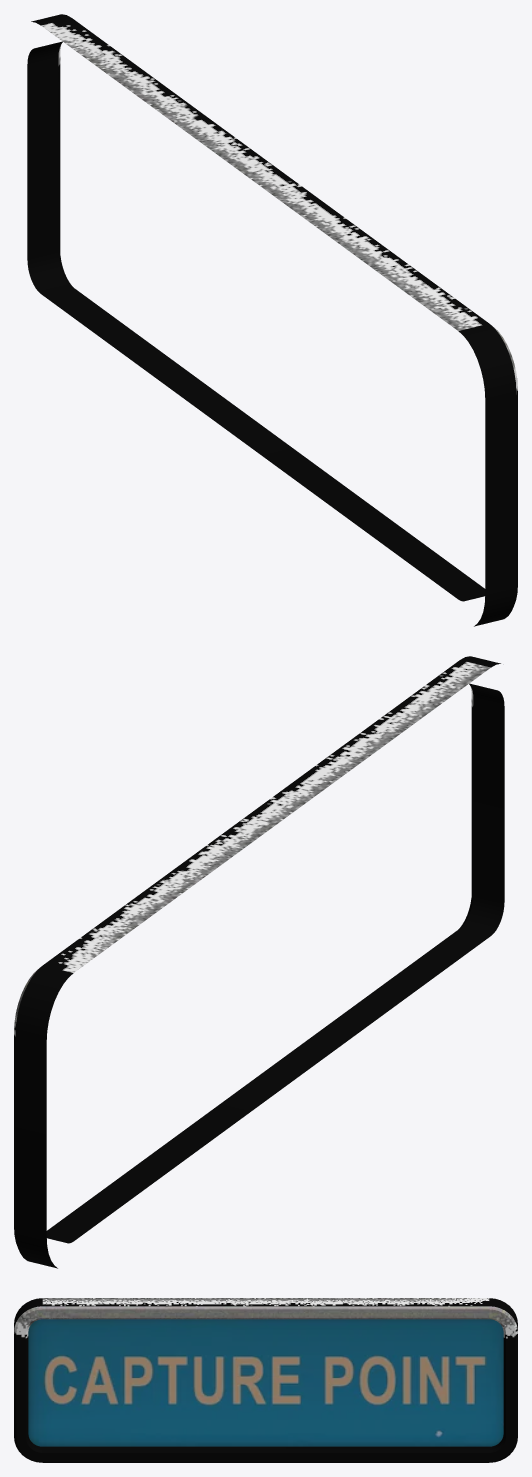
The picture shows the model from 3 angles, top to bottom: view 1: azimuth 30°, elevation 25°; view 2: azimuth 150°, elevation 25°; view 3: azimuth 270°, elevation 25°; orthographic projection. The views are drawn at different scales.
Parts seen in each view (by area): view 1: body0_model0_lod0_mesh0; view 2: body0_model0_lod0_mesh0; view 3: body0_model0_lod0_mesh0.
Boxes of the visible parts, bbox=[...] form: body0_model0_lod0_mesh0: bbox=[27, 14, 517, 626]; body0_model0_lod0_mesh0: bbox=[14, 656, 504, 1268]; body0_model0_lod0_mesh0: bbox=[14, 1298, 517, 1462].
Bounding box in the file's own units: 3 × 24 × 70.
1 material, 1 textured.
